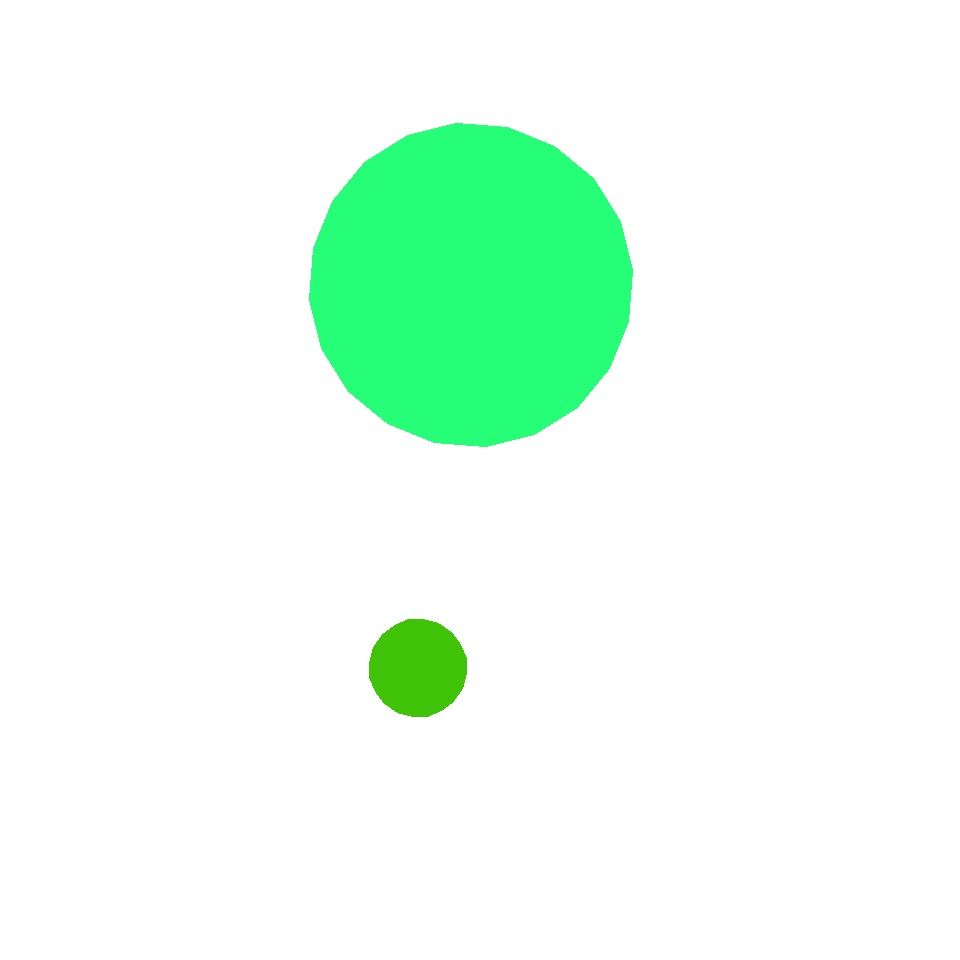circle: (634, 211, 899, 503)
square: (328, 358, 655, 685), (348, 462, 638, 754), (436, 228, 655, 448)
triangle: (310, 123, 632, 446), (601, 384, 842, 625), (370, 620, 466, 716)
